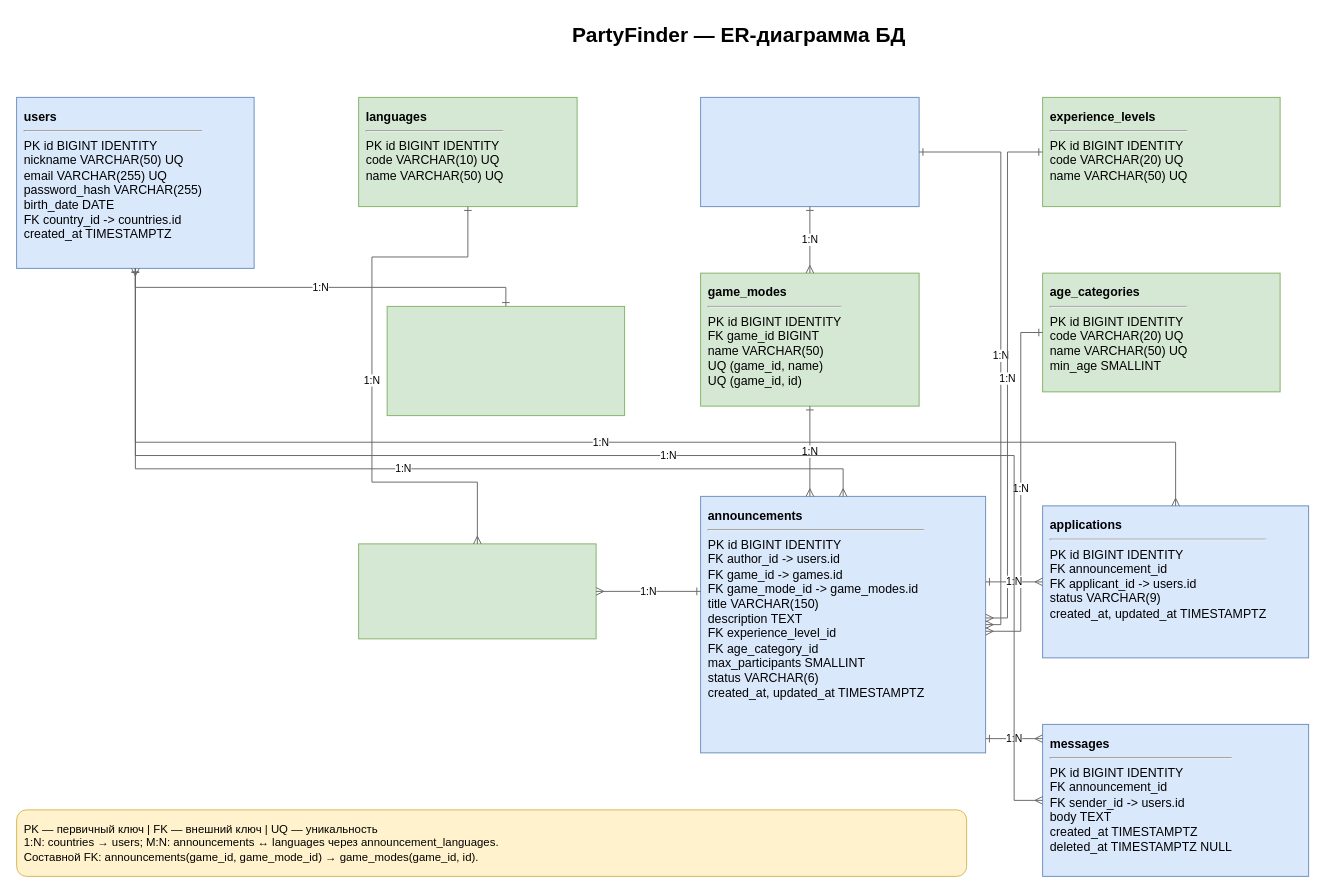
This 1325x893 diagram has some shape labels left out. Here are the shapes that lost their labels. From the top down, the box of each, then its label:
(700, 96, 919, 207): games PK id BIGINT IDENTITY code VARCHAR(50) UQ name VARCHAR(100) UQ
(386, 305, 625, 416): countries PK id BIGINT IDENTITY code CHAR(2) UQ name VARCHAR(100) UQ
(358, 543, 596, 639): announcement_languages PK, FK announcement_id PK, FK language_id
